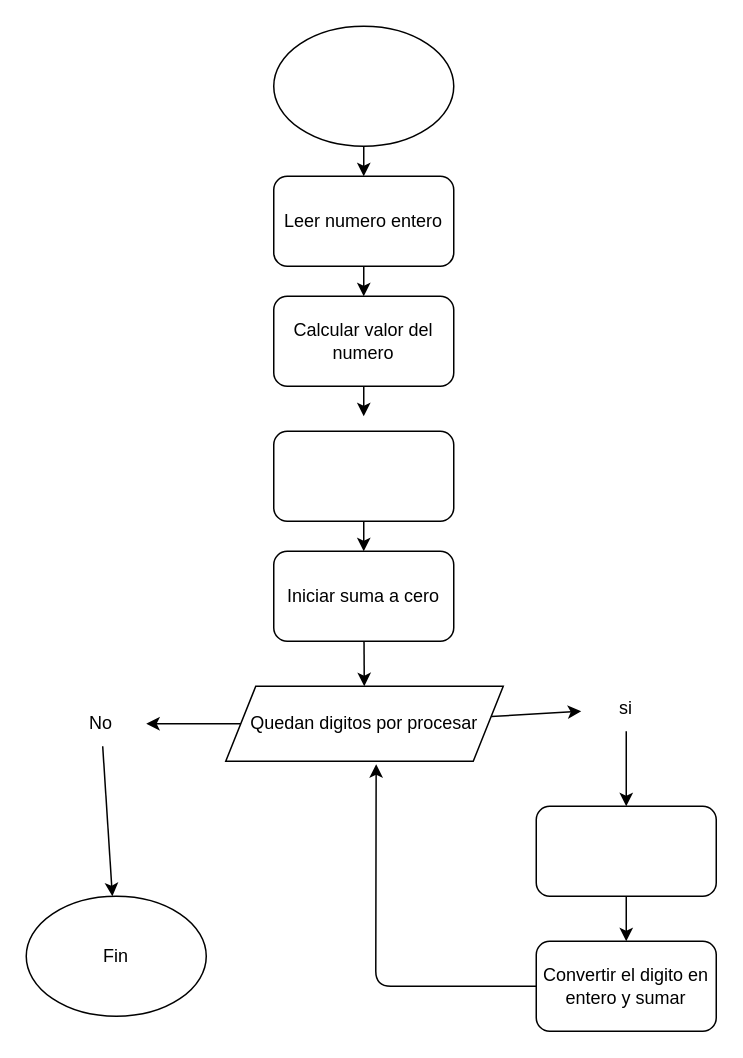
Some shapes in this 743 by 1058 pixel diagram are drawn without their labels. Each missing label, with the centre of its shape:
Convertir numero a cadena: [363,475]
Inicio: [363,85]
Tomar el siguiente digito: [625,850]
